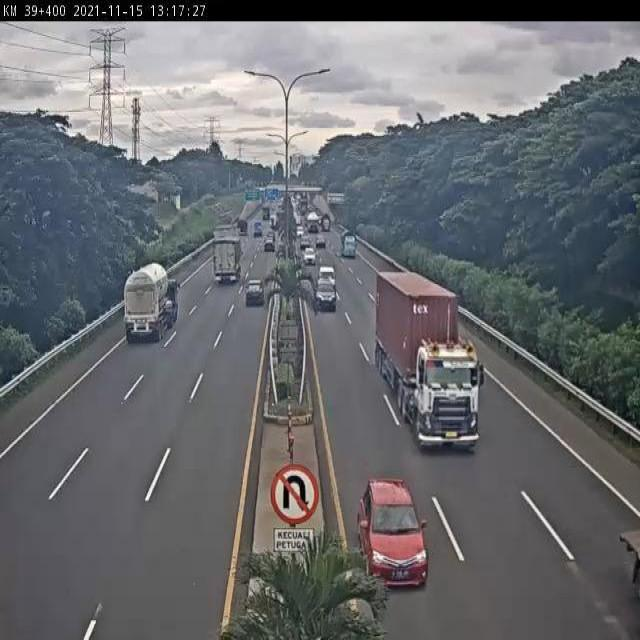bus-s-: (315, 263, 336, 289)
car: (349, 474, 436, 590), (312, 276, 339, 319), (244, 276, 267, 309)
truck-l-: (122, 259, 180, 341)
truck-m-: (209, 235, 243, 284), (339, 229, 358, 260)
truck-xl-: (371, 272, 501, 463)
